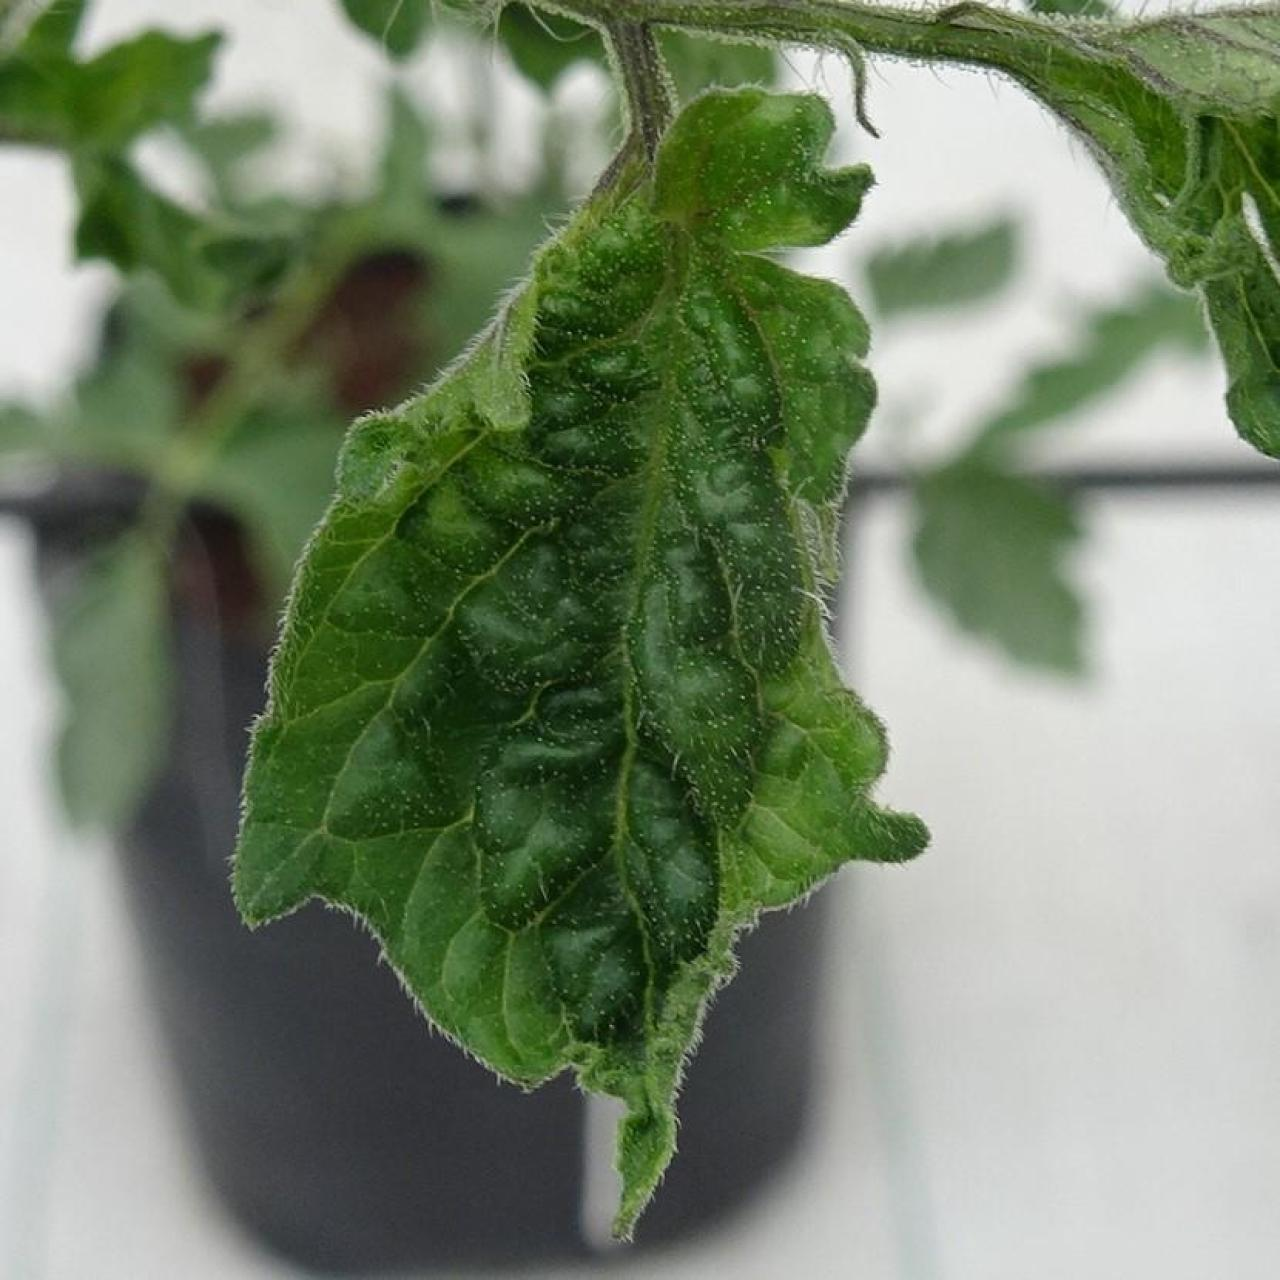T_L_R: (226, 86, 932, 1252)
